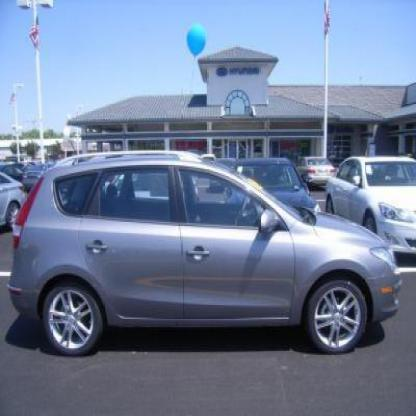Vehicle: (10, 154, 404, 358)
